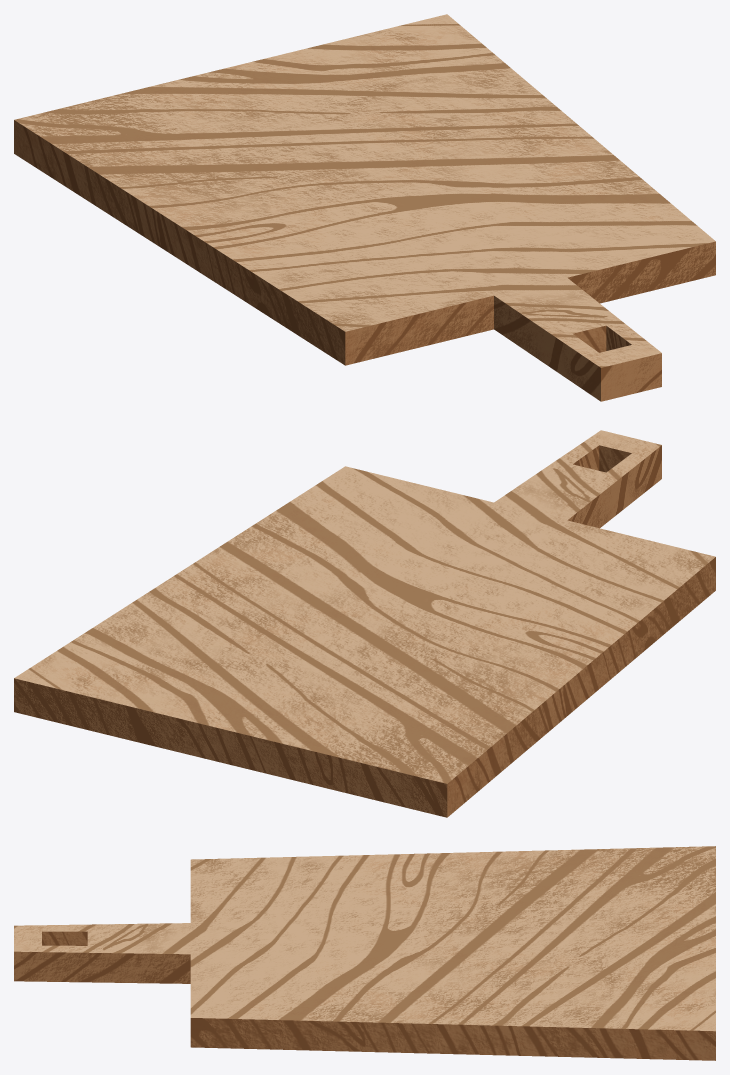
3 views of the same model, one above another, from view 1: azimuth 30°, elevation 25°; view 2: azimuth 150°, elevation 25°; view 3: azimuth 270°, elevation 25° (orthographic). The views are drawn at different scales.
Parts seen in each view (by area): view 1: 도마; view 2: 도마; view 3: 도마.
Part boxes in pixels (x1,y1,x2,y2): 도마: (14,14,715,401); 도마: (14,430,715,817); 도마: (14,846,715,1060).
Bounding box in the file's own units: 234 × 17.45 × 375.
1 material, 1 textured.
